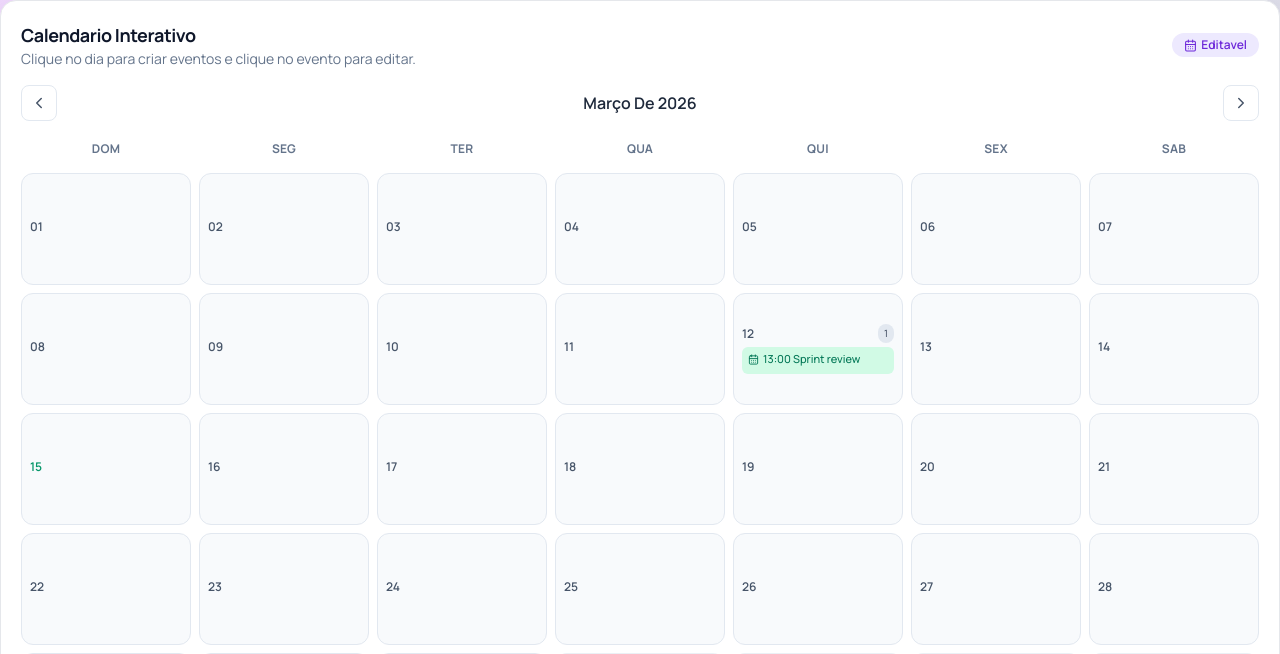
Test: InteractiveCalendar › edita e exclui um evento existente
This screenshot has width=1280, height=654.
Click the button "13:00 Sprint review": (818, 361) [742,347,894,374]
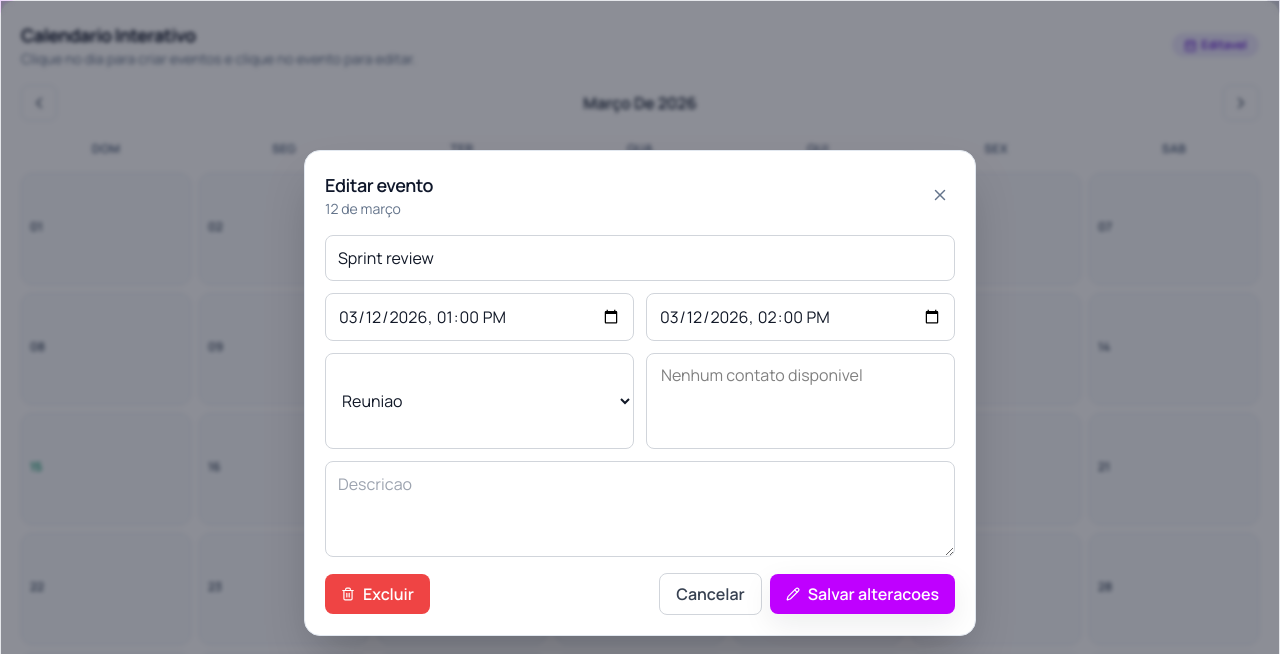
Replace the text in the 1st field with placeholder "Titulo do evento" with "Sprint review atualizada": (640, 258) [325,235,955,281]
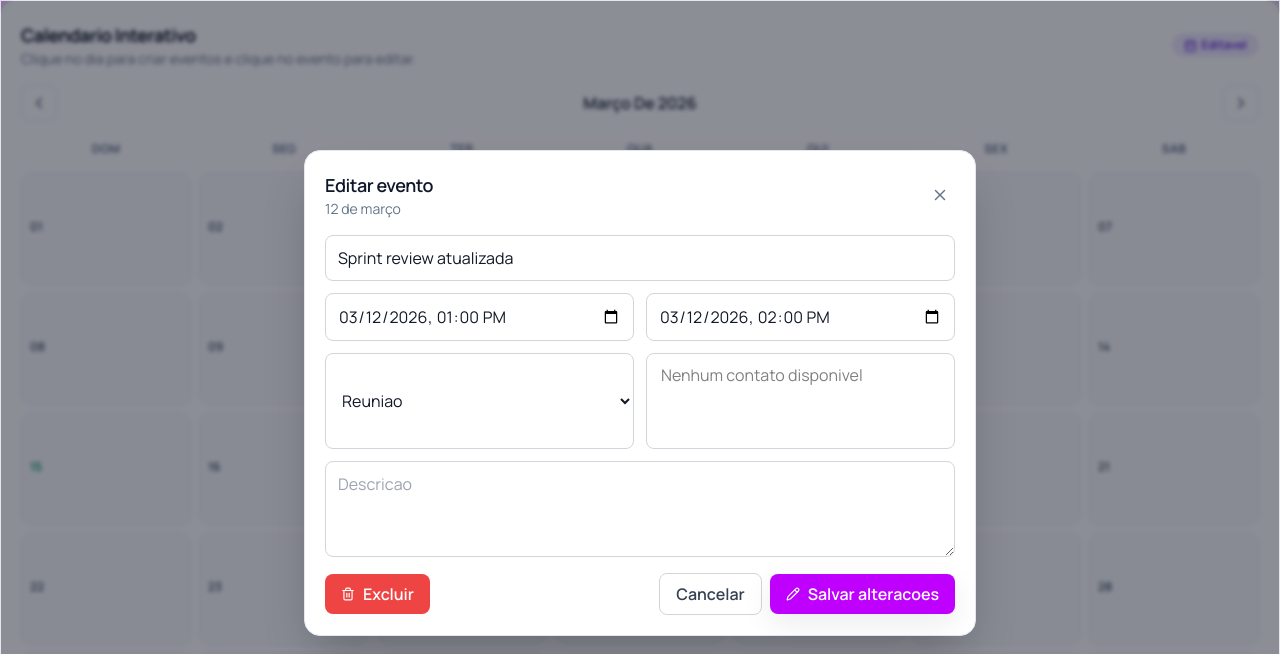
Click the button "Salvar alteracoes": (862, 594) [770,574,955,614]
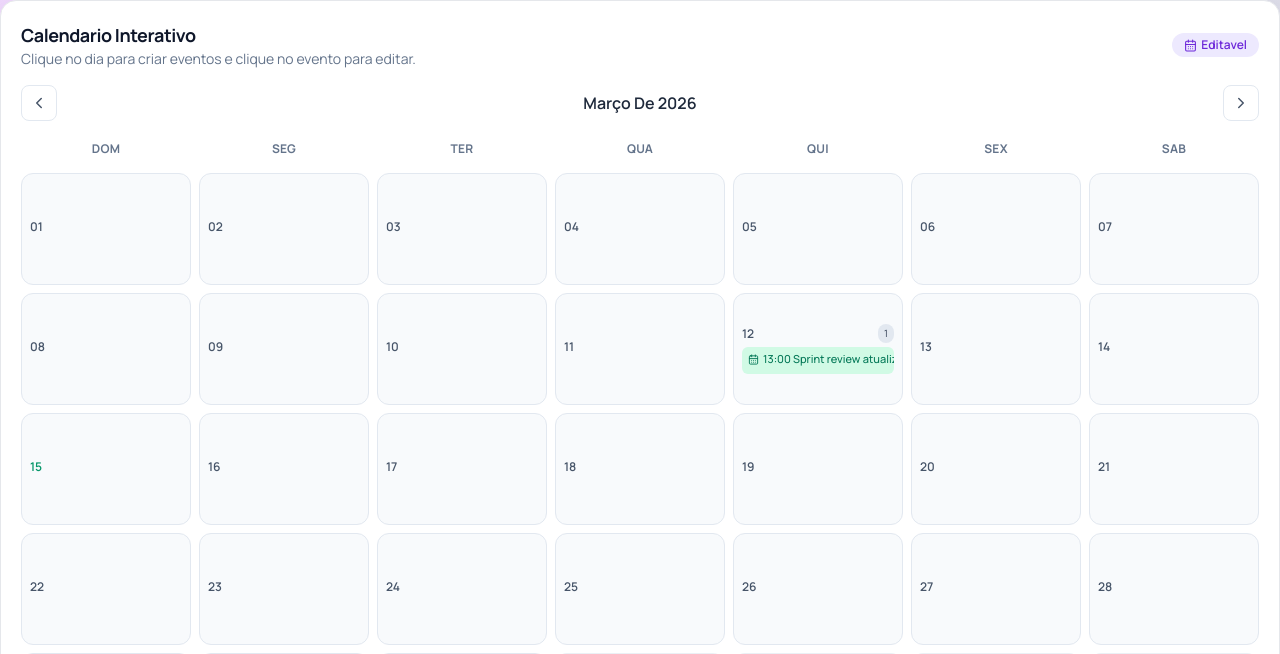
Check: the text "13:00 Sprint review atualizada" is shown, box [763,351,894,368]
Click the button "13:00 Sprint review atualizada": (818, 361) [742,347,894,374]
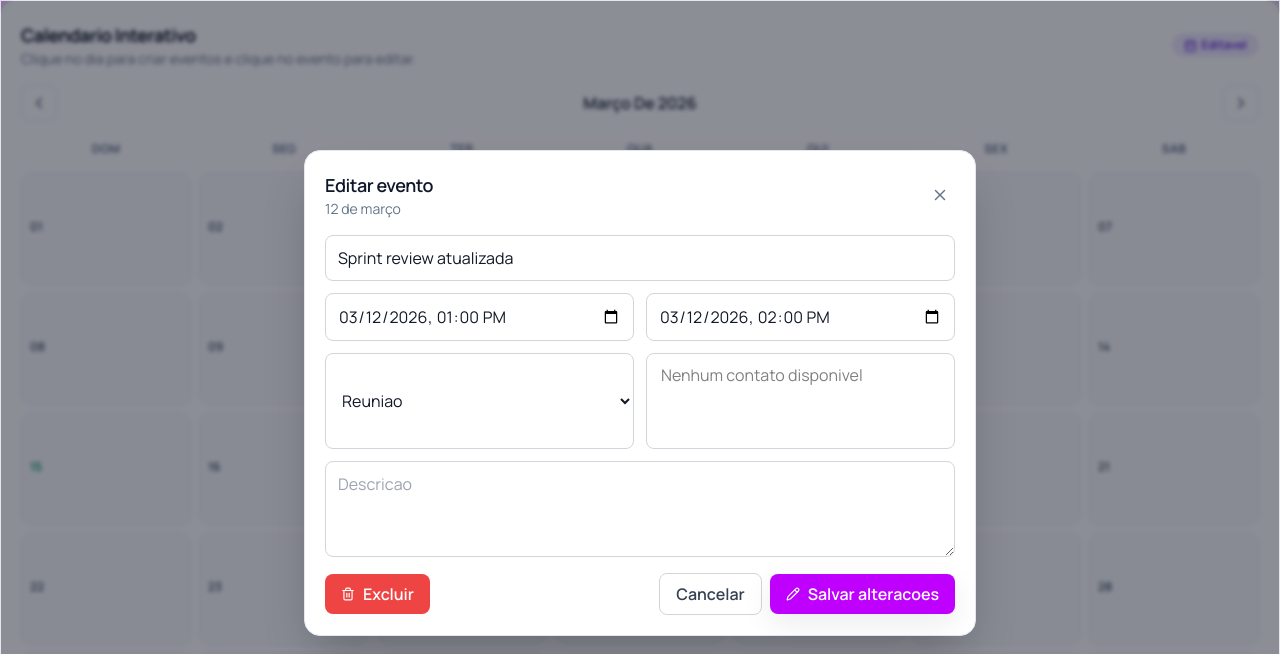
Click the button "Excluir": (378, 594) [325,574,430,614]
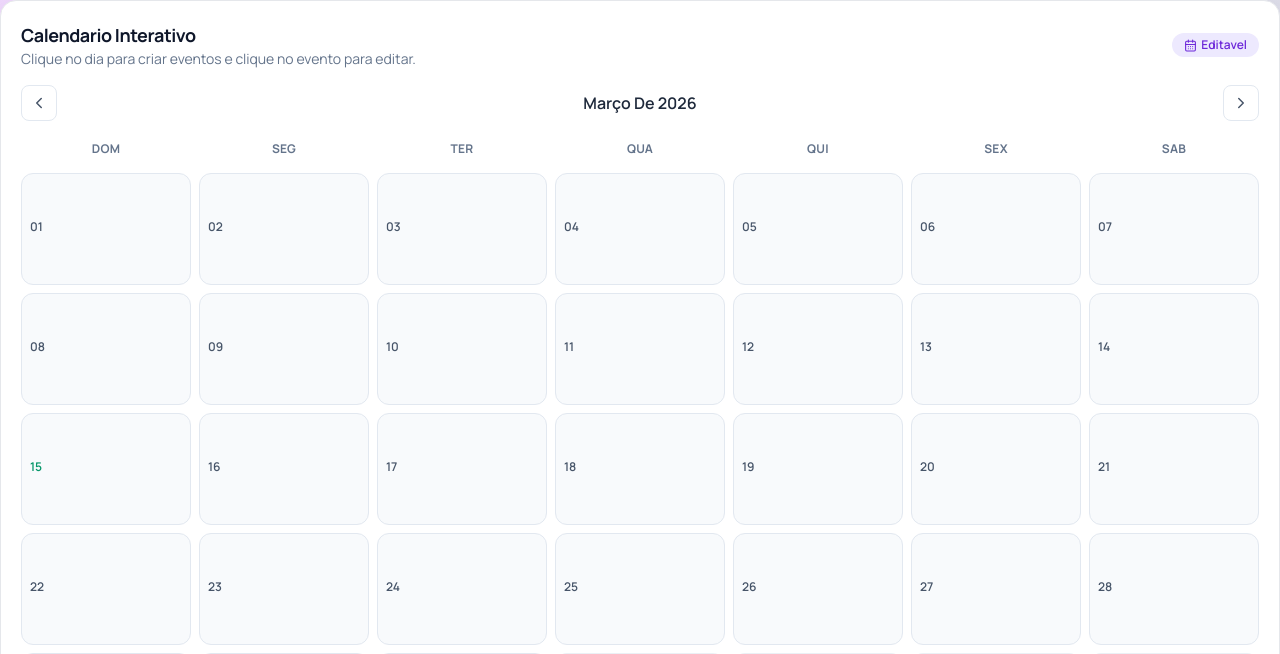
Check: the button "Sprint review atualizada" is gone
